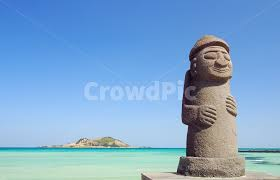Stone Statue: (155, 26, 260, 180)
